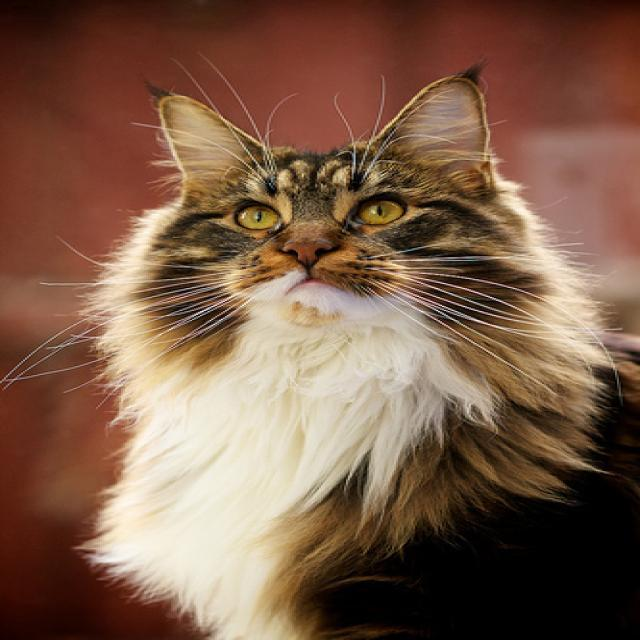Maine_Coon: (135, 62, 520, 329)
